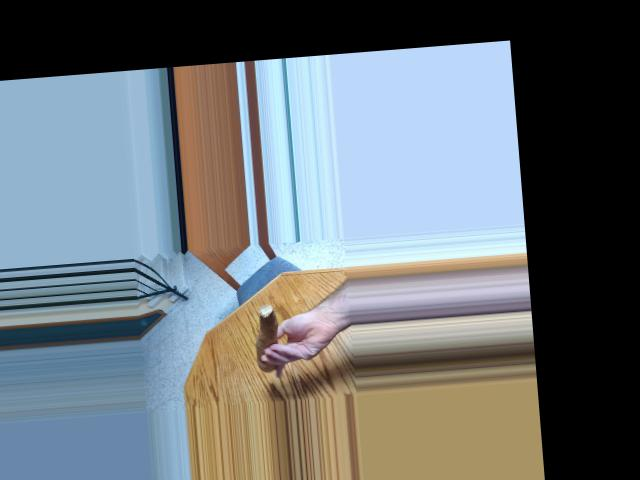sweet_potato: (249, 308, 285, 367)
